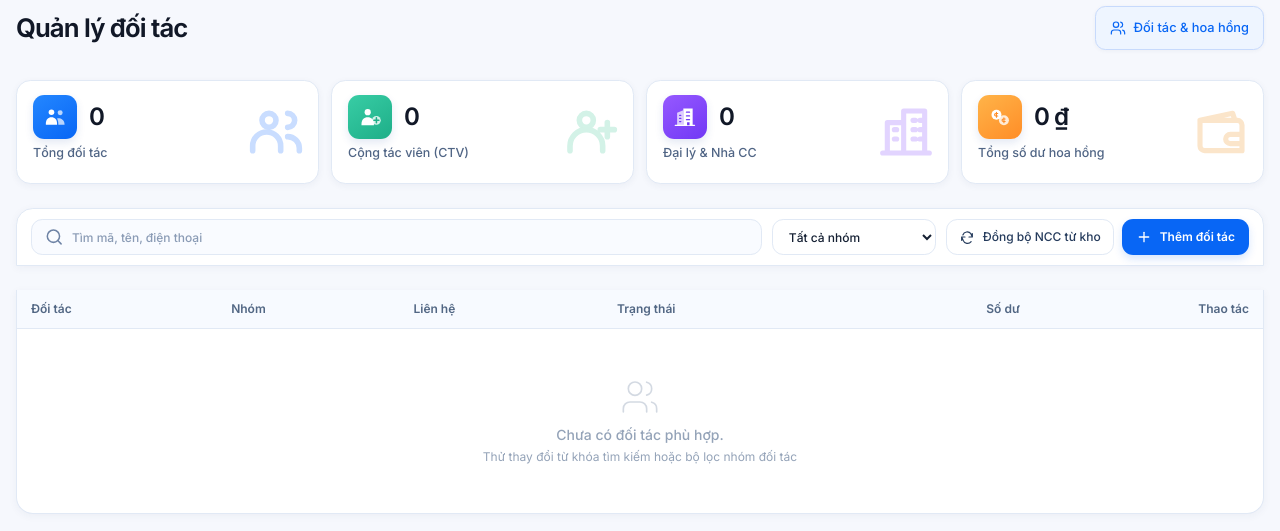
Test: imports existing inventory suppliers and reloads the partner list
Click the button "Đồng bộ NCC từ kho". click: (1030, 237)
box: [946,219,1114,255]
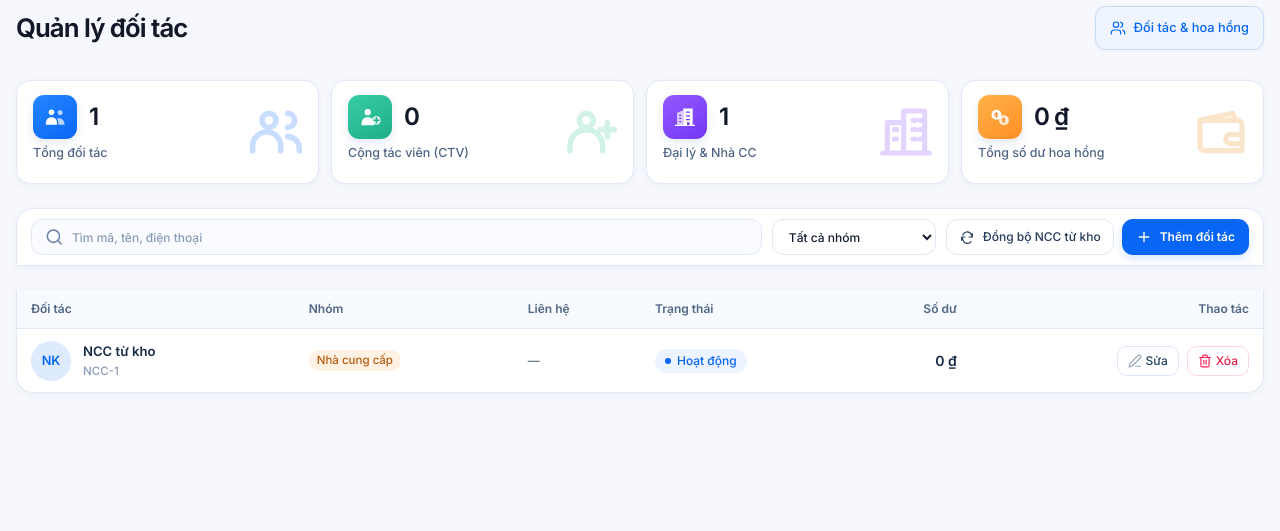
Result: the text "NCC từ kho" is shown at [83,342,156,361]
